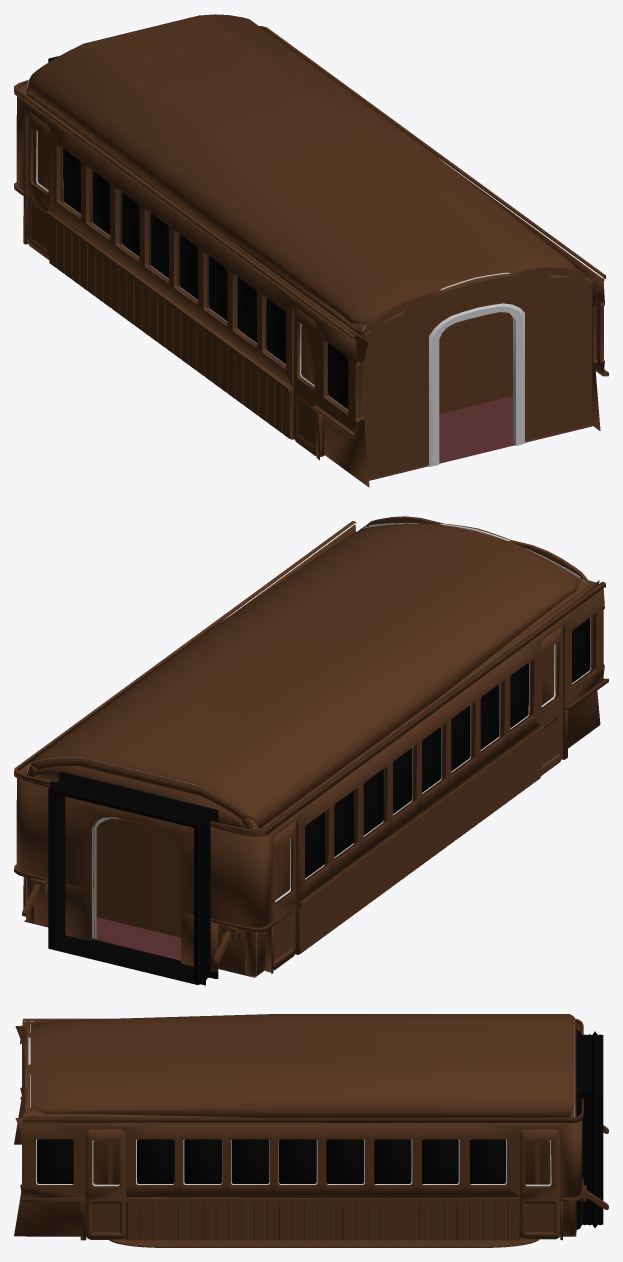
The model's file is vagoneCabine.fbx.
3 views of the same model, one above another, from view 1: azimuth 30°, elevation 25°; view 2: azimuth 150°, elevation 25°; view 3: azimuth 270°, elevation 25° (orthographic). The views are drawn at different scales.
Visible parts, largest first — view 1: Tetto.001, Carrozzeria_esterna.001, Parete_interno.001, Vetri.001, Plane, Stipite_anteriore.001, Pavimento.001, Finestre.001; view 2: Tetto.001, Carrozzeria_esterna.001, Aggangio.001, Parete_interno.001, Vetri.001, Plane, Pavimento.001, Stipite_posteriore.001, Finestre.001; view 3: Tetto.001, Carrozzeria_esterna.001, Vetri.001, Parete_interno.001, Aggangio.001, Plane, Finestre.001.
Part boxes in pixels (left/top/right/bottom): Tetto.001: left=28, top=14, right=576, bottom=324; Carrozzeria_esterna.001: left=14, top=26, right=608, bottom=460; Parete_interno.001: left=26, top=80, right=600, bottom=487; Vetri.001: left=63, top=149, right=348, bottom=409; Plane: left=439, top=312, right=512, bottom=413; Stipite_anteriore.001: left=362, top=272, right=525, bottom=466; Pavimento.001: left=369, top=396, right=592, bottom=480; Finestre.001: left=36, top=130, right=348, bottom=410; Tetto.001: left=30, top=523, right=578, bottom=828; Carrozzeria_esterna.001: left=14, top=521, right=608, bottom=973; Aggangio.001: left=48, top=771, right=218, bottom=985; Parete_interno.001: left=26, top=516, right=600, bottom=975; Vetri.001: left=305, top=618, right=590, bottom=878; Plane: left=96, top=818, right=180, bottom=937; Pavimento.001: left=24, top=917, right=257, bottom=977; Stipite_posteriore.001: left=26, top=757, right=256, bottom=975; Finestre.001: left=275, top=617, right=590, bottom=902; Tetto.001: left=24, top=1014, right=576, bottom=1117; Carrozzeria_esterna.001: left=20, top=1018, right=608, bottom=1240; Vetri.001: left=37, top=1139, right=505, bottom=1183; Parete_interno.001: left=14, top=1021, right=576, bottom=1236; Aggangio.001: left=576, top=1030, right=603, bottom=1229; Plane: left=107, top=1140, right=540, bottom=1247; Finestre.001: left=36, top=1139, right=551, bottom=1186.
Size of the model in its own units: 477 by 321 by 1118.
